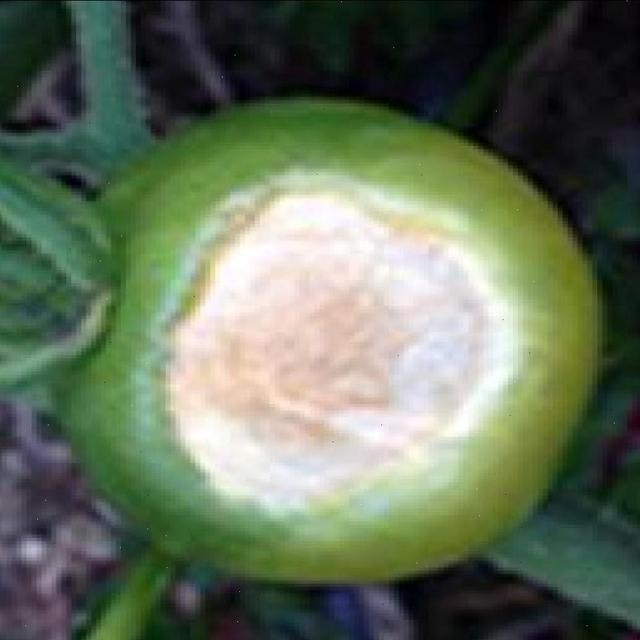Sunscald Fruit: (92, 108, 357, 358)
